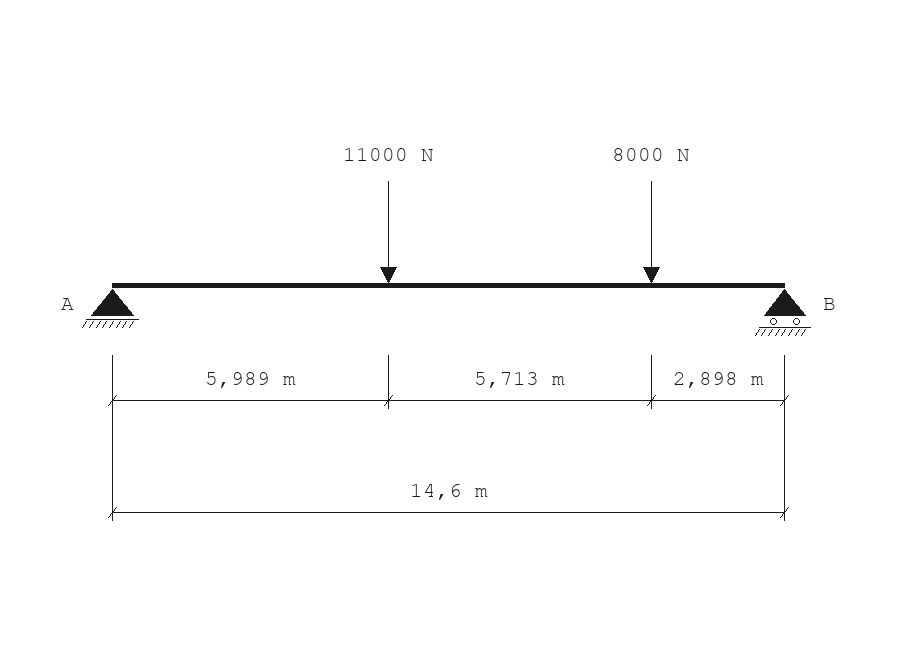pin_support: (82, 289, 139, 328)
point_load: (380, 181, 397, 283), (643, 181, 660, 283)
roller_support: (755, 289, 811, 336)
